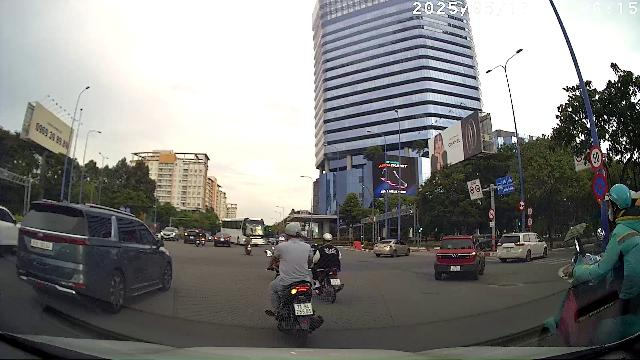127-toc-do-toi-da-50: (589, 145, 603, 171)
